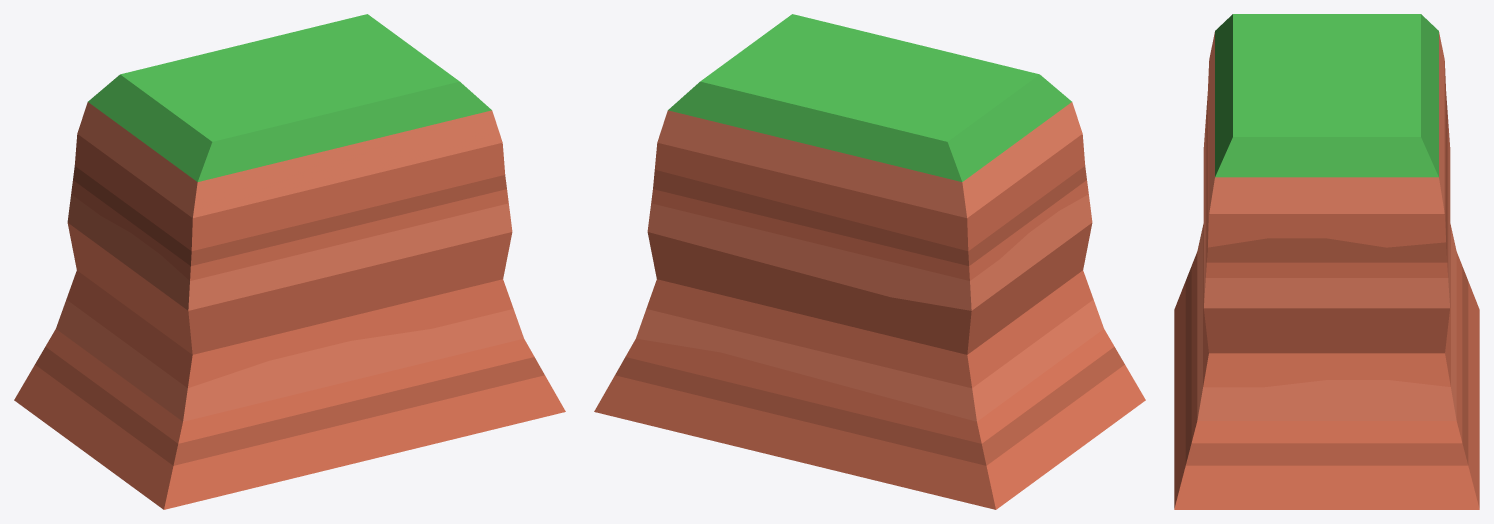
The model's file is StoneWall026.fbx.
The picture shows the model from 3 angles, left to right: view 1: azimuth 30°, elevation 25°; view 2: azimuth 150°, elevation 25°; view 3: azimuth 270°, elevation 25°; orthographic projection.
Visible parts, largest first — view 1: StoneWall026; view 2: StoneWall026; view 3: StoneWall026.
Part boxes in pixels (box(x1,y1,x2,y2)): StoneWall026: box(14, 14, 565, 509); StoneWall026: box(594, 14, 1145, 509); StoneWall026: box(1174, 14, 1479, 509).
Size of the model in its own units: 537 by 418 by 347.
